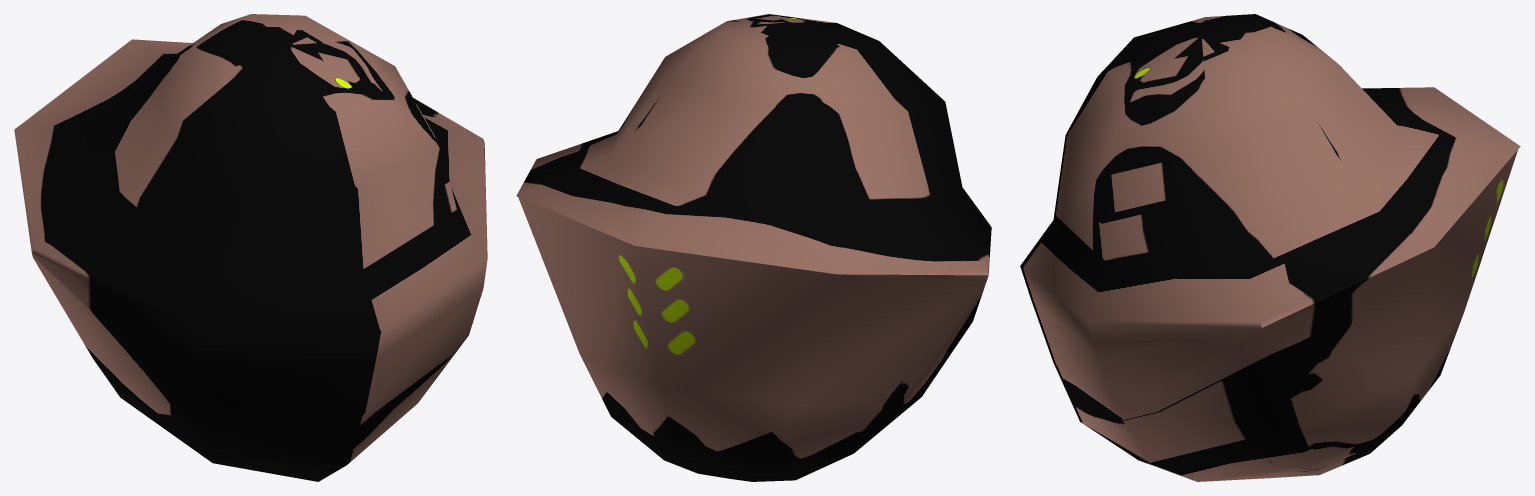
Rendered from akaza_hair.fbx.
3 views of the same model, side by side, from view 1: azimuth 30°, elevation 25°; view 2: azimuth 150°, elevation 25°; view 3: azimuth 270°, elevation 25° (orthographic). The views are drawn at different scales.
Parts seen in each view (by area): view 1: hairNormal; view 2: hairNormal; view 3: hairNormal.
Part boxes in pixels (x1=…): hairNormal: x1=14, y1=14, x2=487, y2=481; hairNormal: x1=516, y1=14, x2=991, y2=481; hairNormal: x1=1020, y1=14, x2=1520, y2=481.
Bounding box in the file's own units: 40.18 × 35.58 × 37.52.
